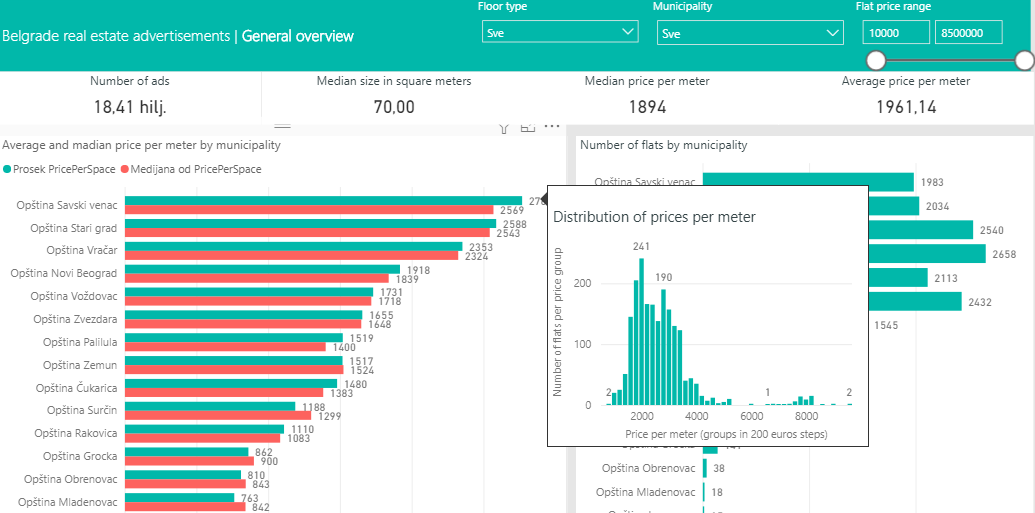

This screenshot's page, from the dashboard's own definition file:
{"tool":"powerbi","page":{"name":"Prices overview","canvas":[1280,720],"ordinal":0},"visuals":[{"type":"basicShape","box":[0,0,1278.8,89.8],"z":0},{"type":"clusteredBarChart","title":"Average and madian price per meter by municipality","fields":{"Category":["HaloOglasiBeograd20200919.Municipality"],"Y":["Avg(HaloOglasiBeograd20200919.PricePerSpace)","Median(HaloOglasiBeograd20200919.PricePerSpace)"]},"box":[10.7,167.6,691.8,552.4],"z":1000},{"type":"slicer","title":"Flat price range","fields":{"Values":["HaloOglasiBeograd20200919.Price"]},"box":[1049.5,0,230.5,92.2],"z":2000},{"type":"clusteredBarChart","title":"Number of ads by municipality","fields":{"Category":["HaloOglasiBeograd20200919.Municipality"],"Y":["Count(HaloOglasiBeograd20200919.Link)"]},"box":[713.3,167.6,556.4,543],"z":3000},{"type":"textbox","box":[10.3,26.6,495.3,45.8],"z":4000},{"type":"card","title":"Number of ads","fields":{"Values":["Count(HaloOglasiBeograd20200919.Link)"]},"box":[10.9,90,320.9,64.4],"z":5000},{"type":"card","title":"Median size in square meters","fields":{"Values":["Median(HaloOglasiBeograd20200919.Space)"]},"box":[331.9,90,320.9,64.4],"z":6000},{"type":"card","title":"Median price per meter","fields":{"Values":["Median(HaloOglasiBeograd20200919.PricePerSpace)"]},"box":[639.3,90,321.1,64],"z":7000},{"type":"card","title":"Average price per meter","fields":{"Values":["Avg(HaloOglasiBeograd20200919.PricePerSpace)"]},"box":[959.1,90,311.2,64.4],"z":8000},{"type":"slicer","title":"Floor type","fields":{"Values":["HaloOglasiBeograd20200919.Floors"]},"box":[589.9,0,209.9,90.2],"z":9000},{"type":"slicer","title":"Municipality","fields":{"Values":["HaloOglasiBeograd20200919.Municipality"]},"box":[802.8,0,246.9,90.2],"z":10000}]}

Visuals, with their boxes on the page's 1280x720 design canvas (x1, y1, x2, y2). These are canvas units, not pixel positions in the 1035x513 screenshot, which may show the page scaled, cropped or inside an application window:
basicShape: {"x1": 0, "y1": 0, "x2": 1279, "y2": 90}
"Average and madian price per meter by municipality" clusteredBarChart: {"x1": 11, "y1": 168, "x2": 702, "y2": 720}
"Flat price range" slicer: {"x1": 1050, "y1": 0, "x2": 1280, "y2": 92}
"Number of ads by municipality" clusteredBarChart: {"x1": 713, "y1": 168, "x2": 1270, "y2": 711}
textbox: {"x1": 10, "y1": 27, "x2": 506, "y2": 72}
"Number of ads" card: {"x1": 11, "y1": 90, "x2": 332, "y2": 154}
"Median size in square meters" card: {"x1": 332, "y1": 90, "x2": 653, "y2": 154}
"Median price per meter" card: {"x1": 639, "y1": 90, "x2": 960, "y2": 154}
"Average price per meter" card: {"x1": 959, "y1": 90, "x2": 1270, "y2": 154}
"Floor type" slicer: {"x1": 590, "y1": 0, "x2": 800, "y2": 90}
"Municipality" slicer: {"x1": 803, "y1": 0, "x2": 1050, "y2": 90}
